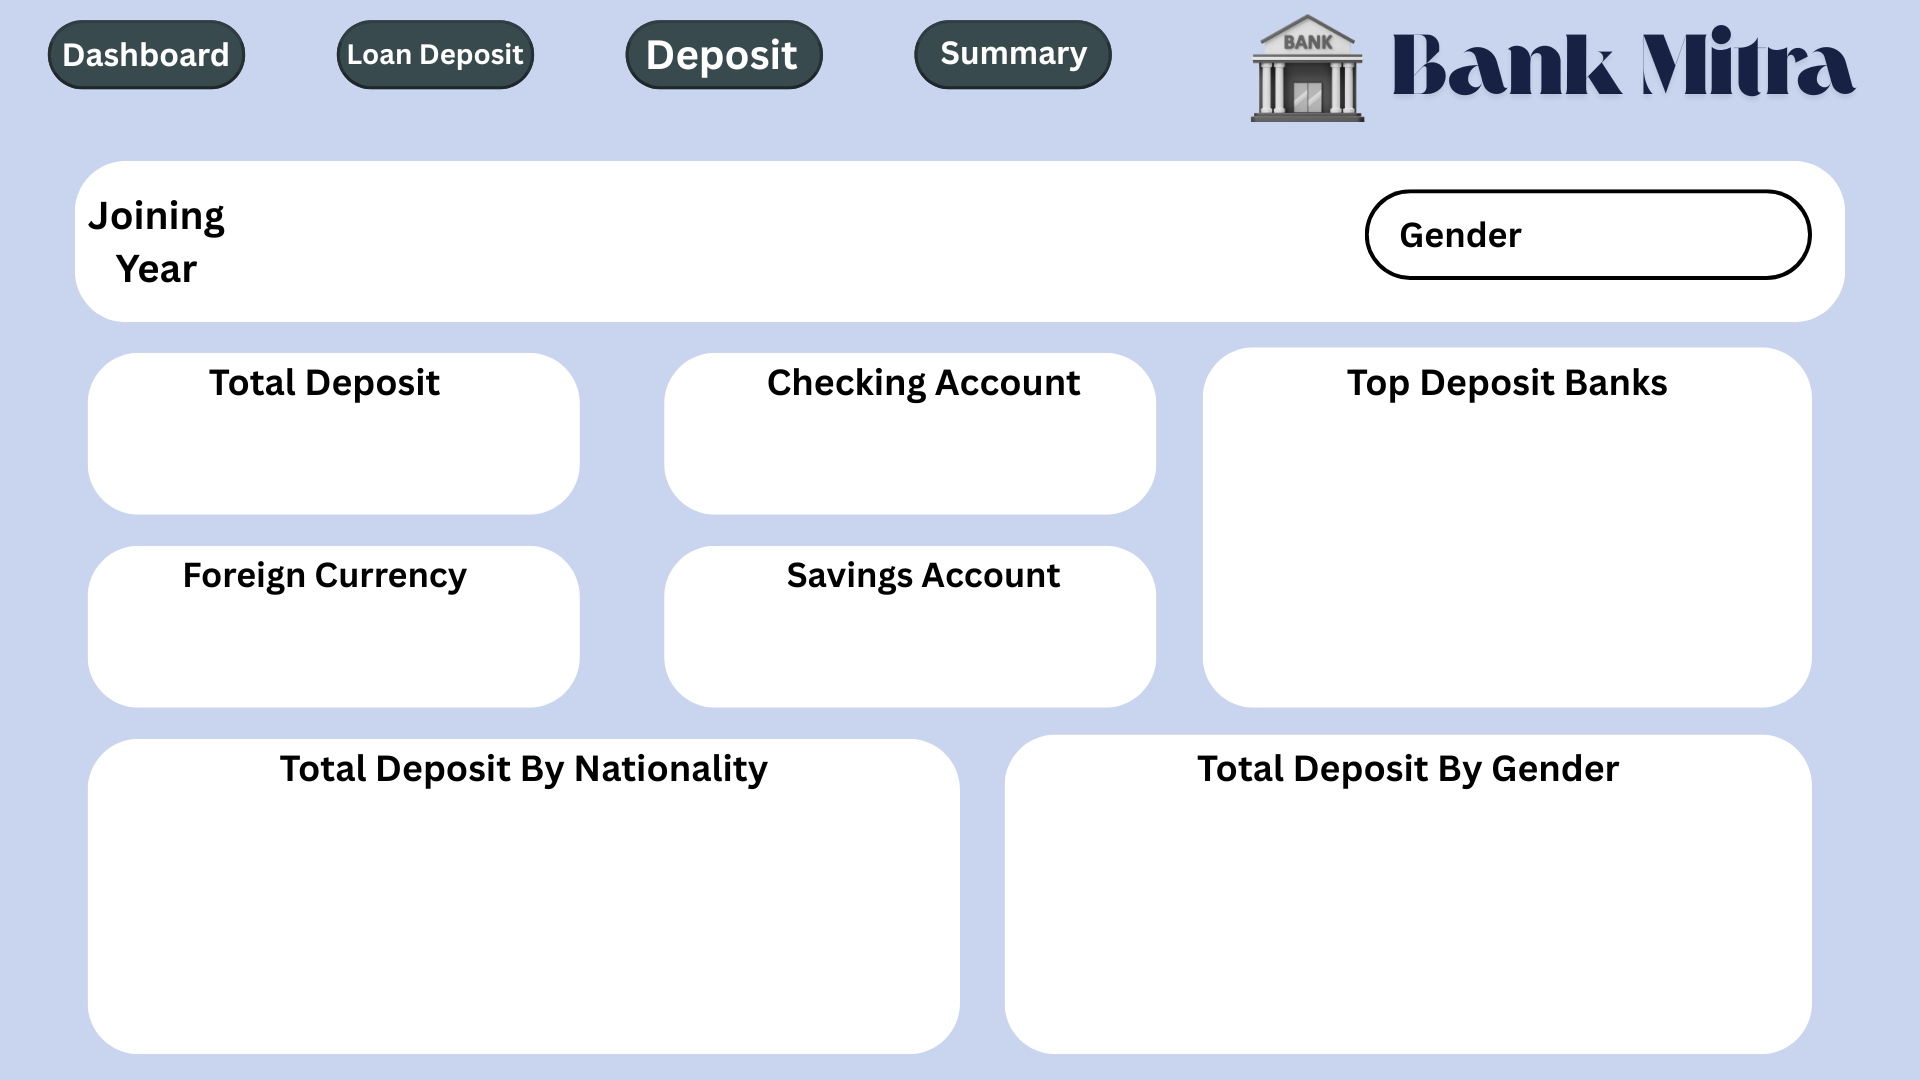

What the dashboard file says about the page in this screenshot:
{"tool":"powerbi","page":{"name":"Deposit","canvas":[1280,720],"ordinal":2},"visuals":[{"type":"card","fields":{"Values":["Banking.Total Deposit"]},"box":[98.2,267.5,217.2,68.7],"z":0},{"type":"card","fields":{"Values":["Sum(Banking.Checking Accounts)"]},"box":[506.8,267.5,217.2,68.7],"z":1000},{"type":"card","fields":{"Values":["Sum(Banking.Foreign Currency Account)"]},"box":[111.7,396.3,217.2,68.7],"z":2000},{"type":"card","fields":{"Values":["Sum(Banking.Saving Accounts)"]},"box":[506.8,396.3,217.2,68.7],"z":3000},{"type":"slicer","fields":{"Values":["Banking.GenderId"]},"box":[1031.9,132.5,150.9,49.1],"z":4000},{"type":"columnChart","fields":{"Y":["Banking.Total Deposit"],"Category":["Banking.Nationality"]},"box":[79.8,539.9,536.2,149.7],"z":5000},{"type":"donutChart","fields":{"Y":["Banking.Total Deposit"],"Category":["Banking.GenderId"]},"box":[688.3,539.9,494.5,149.7],"z":6000},{"type":"actionButton","box":[29.4,12.3,135,49.1],"z":7000},{"type":"actionButton","box":[222.1,12.3,135,49.1],"z":8000},{"type":"actionButton","box":[414.7,12.3,135,49.1],"z":9000},{"type":"actionButton","box":[607.4,12.3,135,49.1],"z":10000},{"type":"clusteredColumnChart","fields":{"Y":["Banking.Total Deposit"],"Category":["Banking.BRId"]},"box":[807.4,267.5,393.9,196.3],"z":11000},{"type":"slicer","title":"Joining Year","fields":{"Values":["Banking.Joined Bank.Variation.Date Hierarchy.Year"]},"box":[159.5,112.9,701.8,95.7],"z":12000}]}

Visuals, with their boxes in screenshot pixels (x1, y1, x2, y2), scaled from the page's 1280x720 canvas onto the 1920x1080 screenshot:
card - Banking.Total Deposit: bbox=(147, 401, 473, 504)
card - Sum(Banking.Checking Accounts): bbox=(760, 401, 1086, 504)
card - Sum(Banking.Foreign Currency Account): bbox=(168, 594, 493, 698)
card - Sum(Banking.Saving Accounts): bbox=(760, 594, 1086, 698)
slicer - Banking.GenderId: bbox=(1548, 199, 1774, 272)
columnChart - Banking.Total Deposit x Banking.Nationality: bbox=(120, 810, 924, 1034)
donutChart - Banking.Total Deposit x Banking.GenderId: bbox=(1032, 810, 1774, 1034)
actionButton: bbox=(44, 18, 247, 92)
actionButton: bbox=(333, 18, 536, 92)
actionButton: bbox=(622, 18, 825, 92)
actionButton: bbox=(911, 18, 1114, 92)
clusteredColumnChart - Banking.Total Deposit x Banking.BRId: bbox=(1211, 401, 1802, 696)
"Joining Year" slicer: bbox=(239, 169, 1292, 313)
